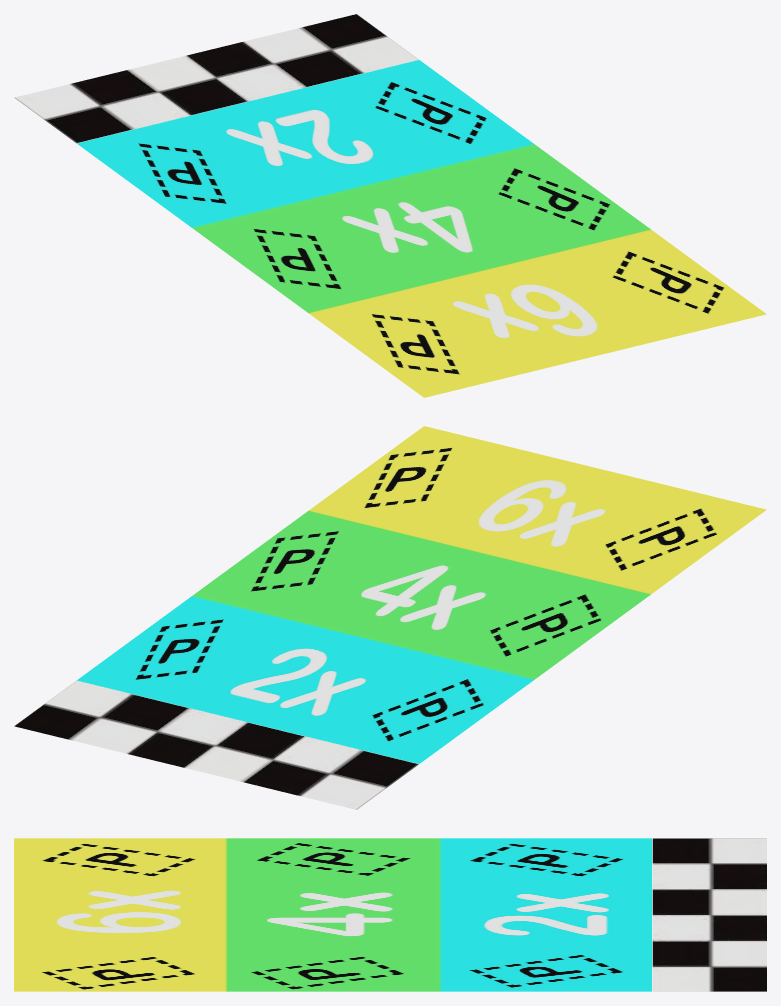
The model's file is bitiş.fbx.
The picture shows the model from 3 angles, top to bottom: view 1: azimuth 30°, elevation 25°; view 2: azimuth 150°, elevation 25°; view 3: azimuth 270°, elevation 25°; orthographic projection. The views are drawn at different scales.
Visible parts, largest first — view 1: Plane.014; view 2: Plane.014; view 3: Plane.014.
Boxes of the visible parts, x1,y1,x2,y2 form: Plane.014: [14, 14, 766, 397]; Plane.014: [14, 426, 766, 809]; Plane.014: [14, 838, 766, 991].
Bounding box in the file's own units: 20.53 × 1.62e-09 × 42.56.
Materials: 2 (2 with a texture image).
